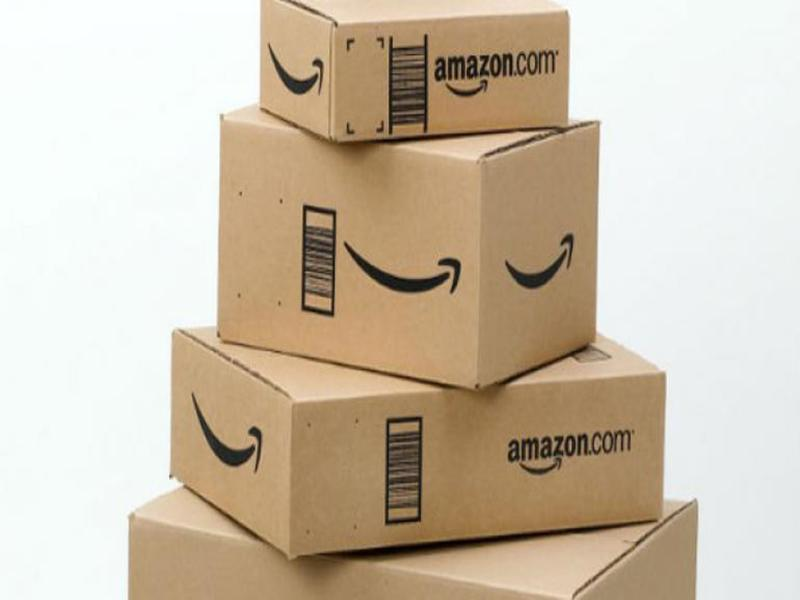package: (162, 321, 671, 566), (210, 111, 606, 394), (120, 484, 703, 598), (252, 13, 575, 147)
